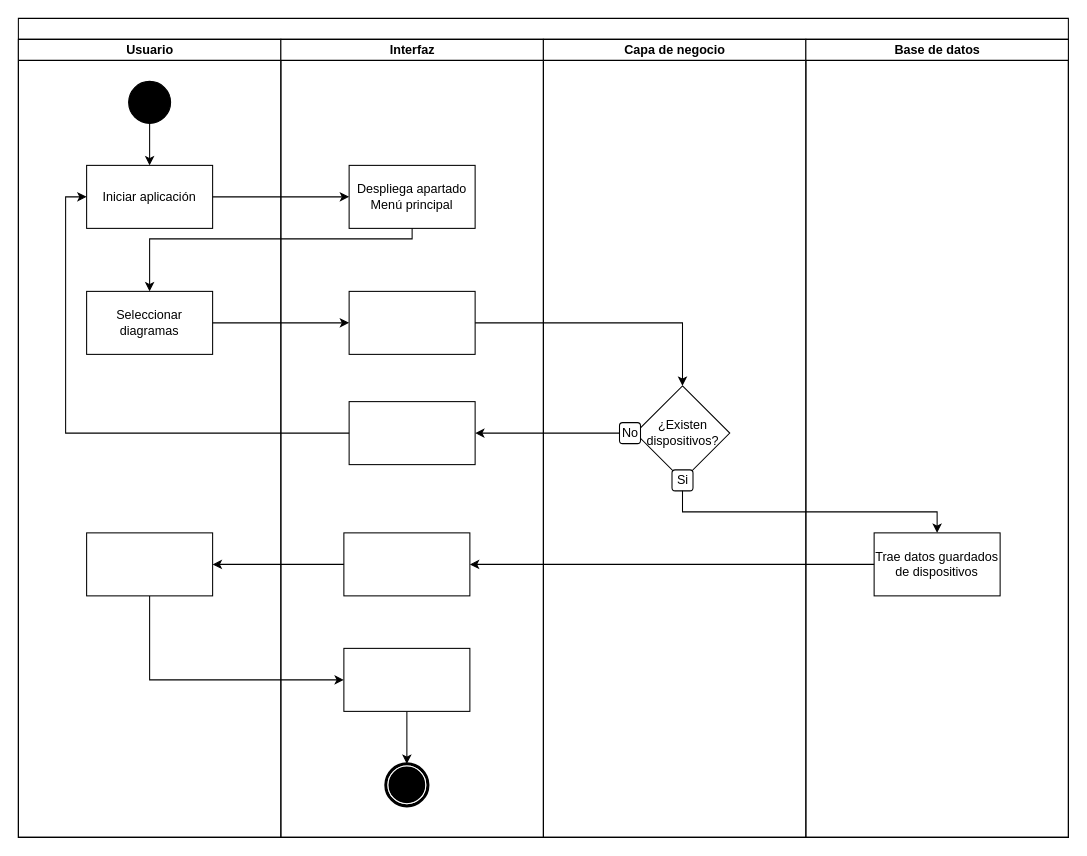
Image size: 1087x856. Some labels were removed from this diagram. The shapes that lost their labels are listed below. From the top down, each one's centre as x and y in pixels, then its label:
the point at 411,322: Despliega apartado de diagrama
the point at 411,433: Notifica diagramas inexistentes
the point at 149,564: Selecciona un modulo
the point at 406,564: Sistema muestra módulos disponibles
the point at 406,679: Muestra la humedad del modulo
